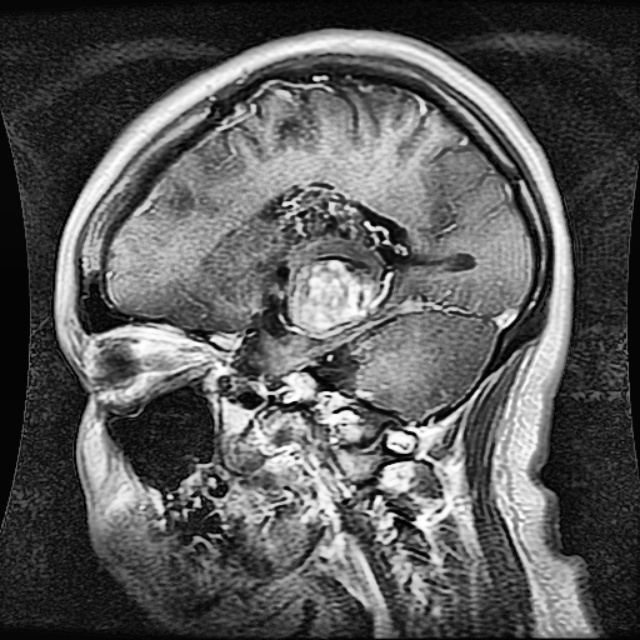Meningioma: (259, 185, 414, 340)
